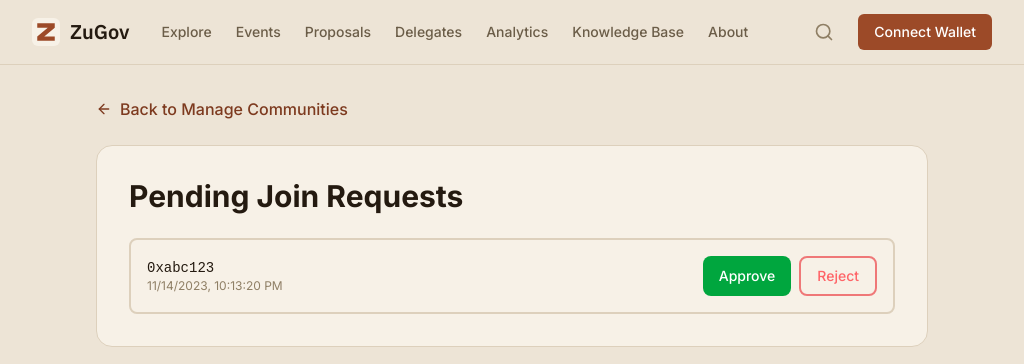
Test: CommunityMembersPage › approving a request removes it from the list on success
The width and height of the screenshot is (1024, 364).
Step 1. Click the button "Approve" → point(747, 276), box [703,256,791,296]
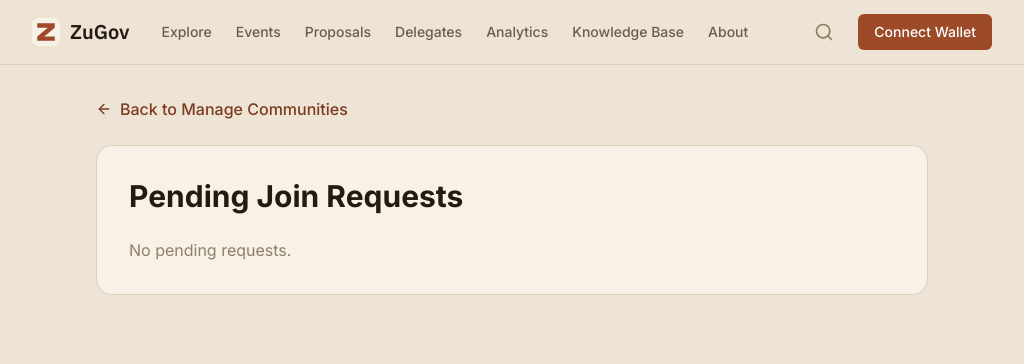
expect the text "0xabc123" is gone: met
